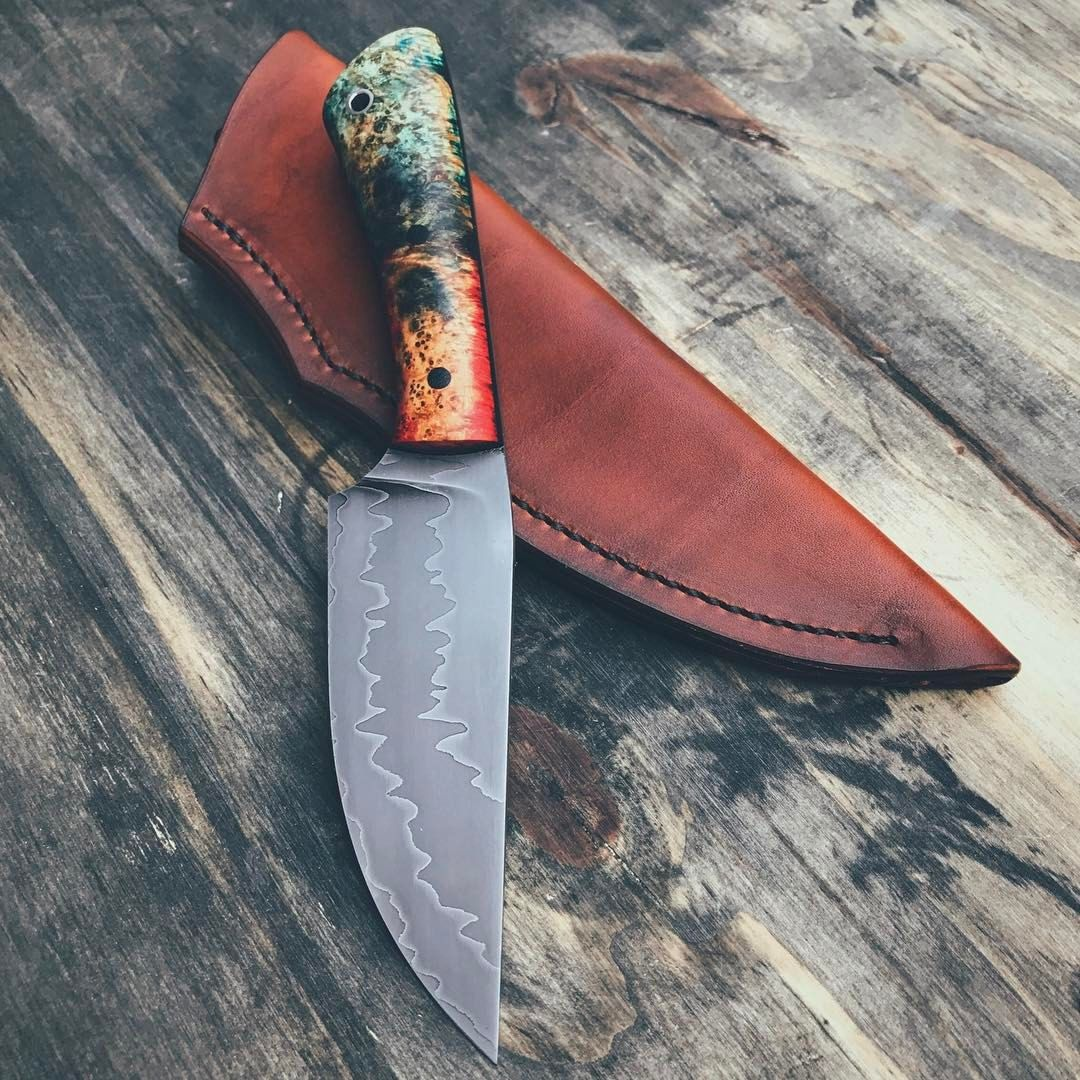knife: (297, 20, 570, 1071)
